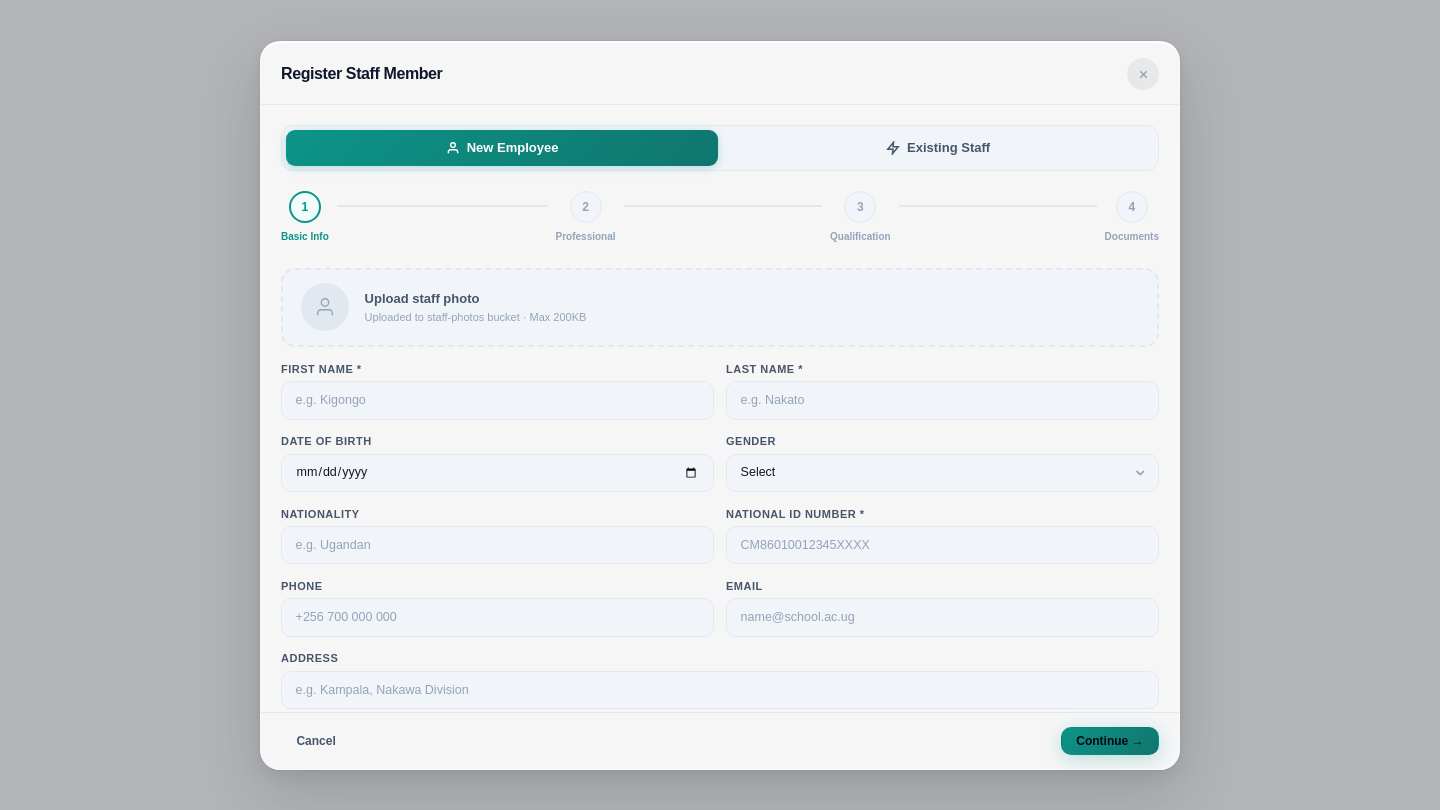
Test: StaffRegistrationWizard › existing staff mode shows hint text
Click the button "Existing Staff". click: (938, 148)
box: [722,130,1154,165]
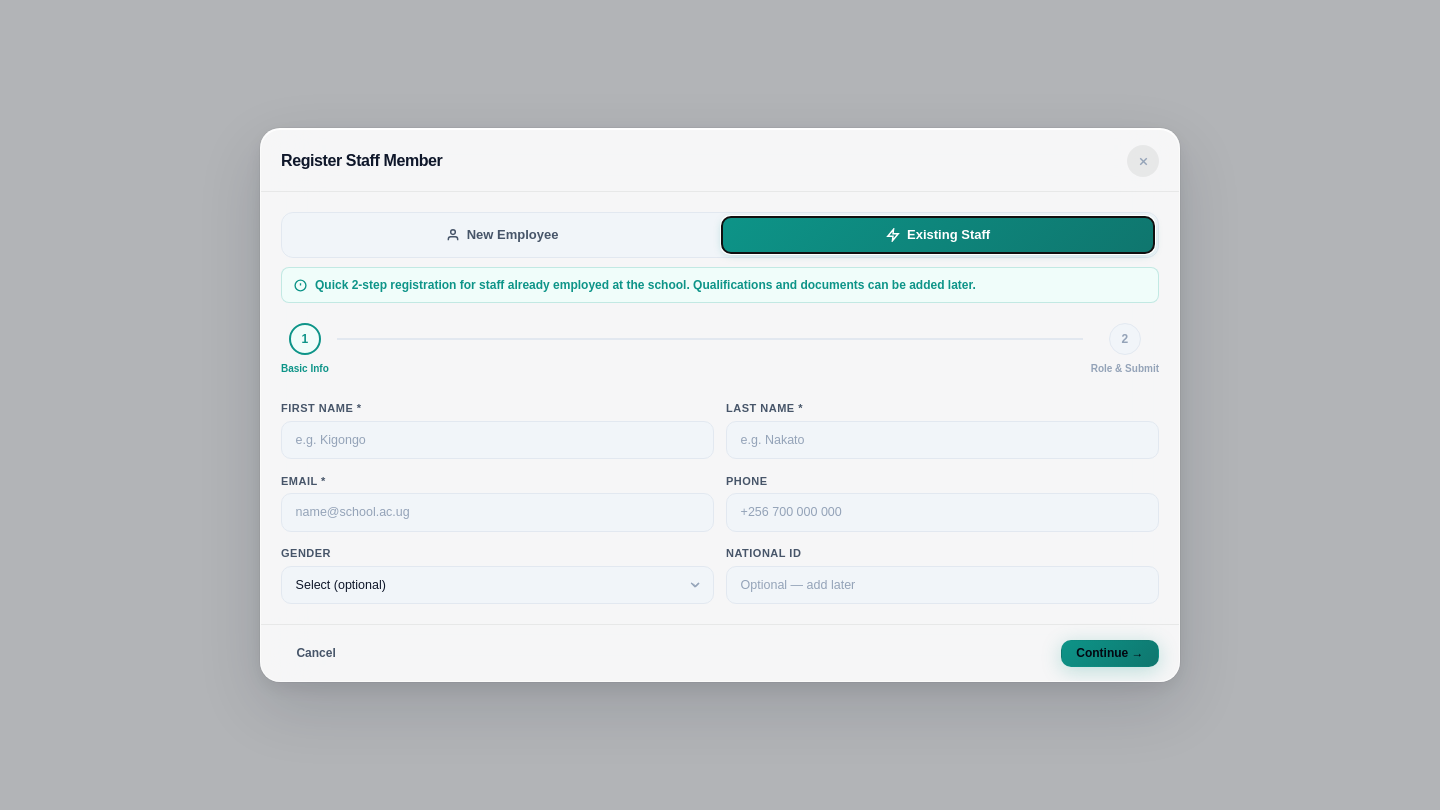
Check: the text "Quick 2-step registration" is shown, box [315,278,976,292]
